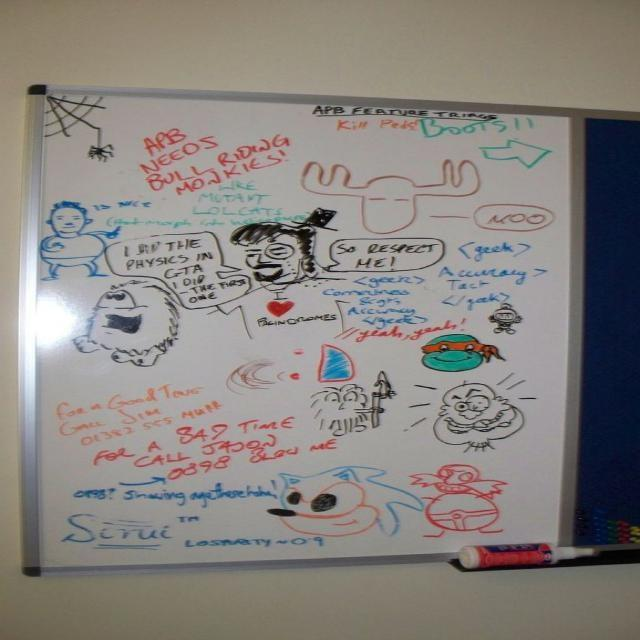Whiteboard: (18, 84, 639, 576)
